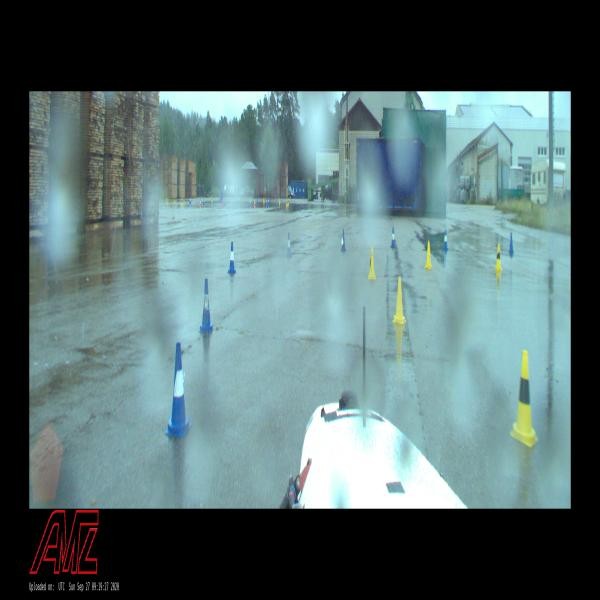blue_cone: (166, 342, 192, 436), (199, 279, 214, 333), (228, 242, 236, 273), (390, 227, 396, 249), (508, 232, 514, 254), (286, 233, 291, 257), (341, 229, 346, 252), (443, 230, 448, 250), (190, 196, 192, 205), (203, 198, 205, 206), (266, 199, 268, 206), (268, 198, 270, 205)
orange_cone: (254, 200, 256, 208), (200, 199, 201, 207)
yellow_cone: (510, 351, 539, 448), (393, 275, 407, 325), (368, 246, 376, 280), (495, 242, 503, 272), (425, 240, 433, 270), (174, 196, 176, 204), (286, 199, 288, 207), (182, 198, 183, 206), (288, 199, 289, 206)
